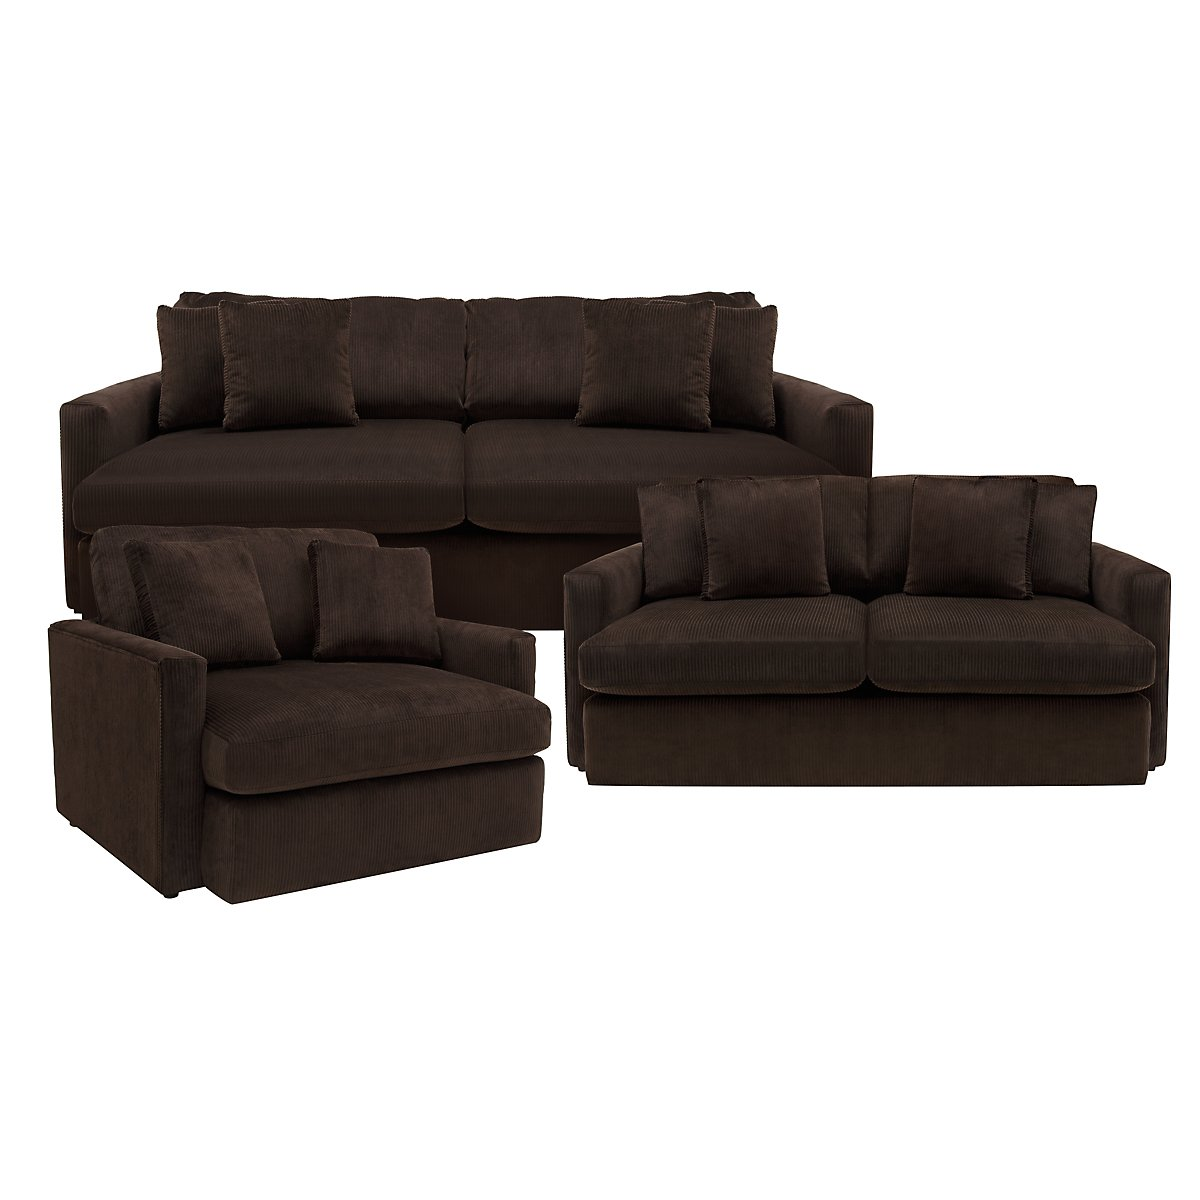chairs: (24, 297, 1185, 910)
